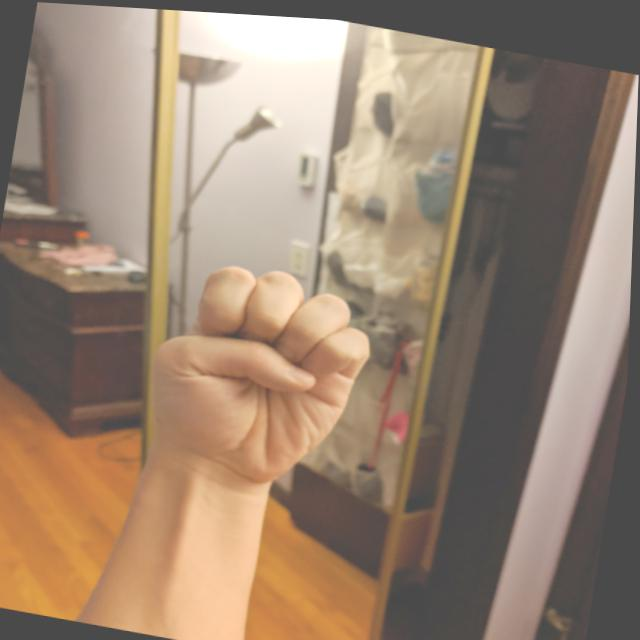E: (127, 241, 388, 506)
